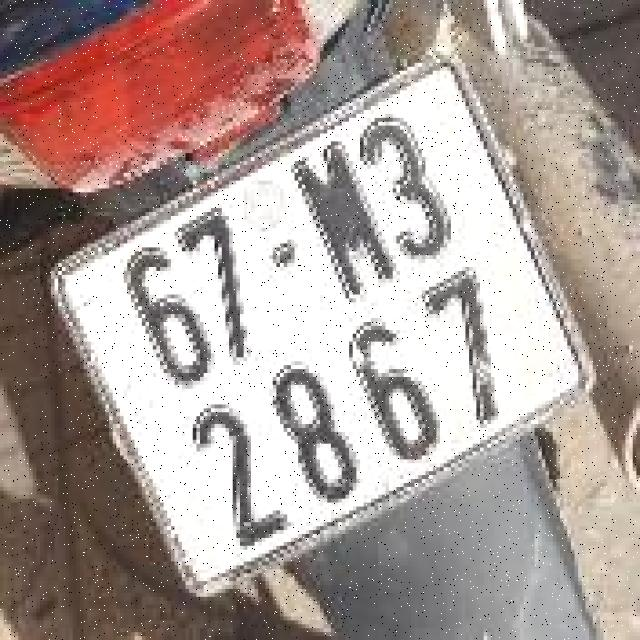2: (174, 391, 303, 575)
3: (351, 99, 466, 286)
6: (333, 299, 459, 483), (104, 226, 226, 403)
7: (411, 242, 532, 440), (158, 194, 279, 384)
8: (258, 339, 375, 535)
M: (277, 125, 411, 315)
